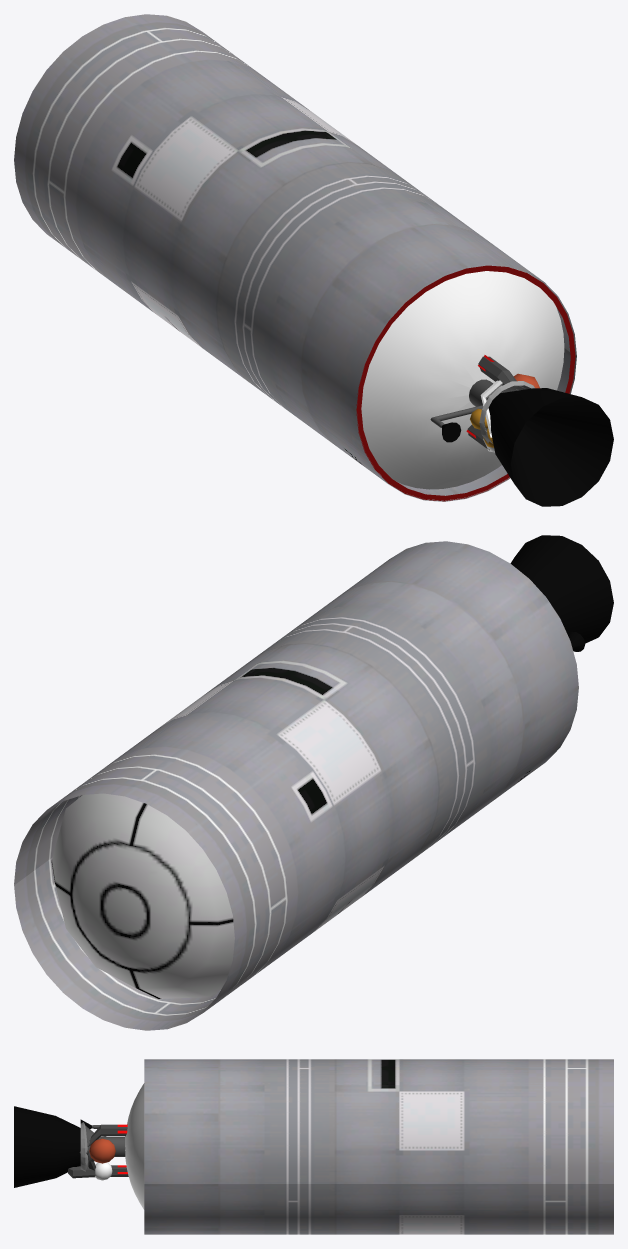
The model's file is titan34_stage2.obj.
The picture shows the model from 3 angles, top to bottom: view 1: azimuth 30°, elevation 25°; view 2: azimuth 150°, elevation 25°; view 3: azimuth 270°, elevation 25°; orthographic projection. The views are drawn at different scales.
Visible parts, largest first — view 1: group1, group7, group11, group12, group9, group10; view 2: group1, group0, group12; view 3: group1, group12, group7, group8, group18, group19, group16, group20, group6.
Boxes of the visible parts, <box> form: group1: <box>14,14,576,501</box>; group7: <box>361,271,564,489</box>; group11: <box>510,397,613,506</box>; group12: <box>488,388,581,483</box>; group9: <box>356,265,575,409</box>; group10: <box>356,356,575,501</box>; group1: <box>14,541,578,1030</box>; group0: <box>51,793,234,998</box>; group12: <box>510,535,613,643</box>; group1: <box>144,1059,613,1234</box>; group12: <box>14,1106,80,1187</box>; group7: <box>125,1083,144,1209</box>; group8: <box>89,1138,115,1163</box>; group18: <box>79,1124,127,1170</box>; group19: <box>68,1165,128,1178</box>; group16: <box>85,1126,125,1165</box>; group20: <box>80,1122,88,1171</box>; group6: <box>95,1162,112,1180</box>.
Size of the model in its own units: 3.05 by 3.05 by 10.44.
Materials: 11 (2 with a texture image).
